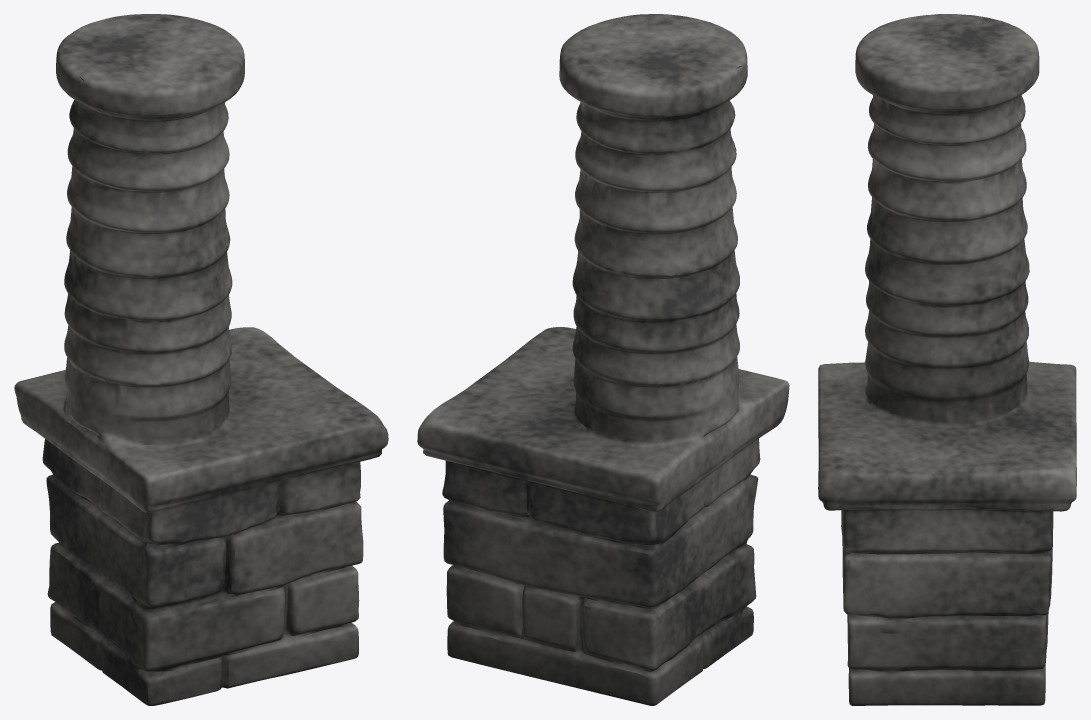
Rendered from old-granite-chimney-stack.glb.
3 renders of one model, left to right at view 1: azimuth 30°, elevation 25°; view 2: azimuth 150°, elevation 25°; view 3: azimuth 270°, elevation 25°, orthographic. The views are drawn at different scales.
Parts seen in each view (by area): view 1: old-granite-chimney-stack; view 2: old-granite-chimney-stack; view 3: old-granite-chimney-stack.
Boxes of the visible parts, x1=… form: old-granite-chimney-stack: x1=14, y1=14, x2=388, y2=705; old-granite-chimney-stack: x1=417, y1=14, x2=789, y2=705; old-granite-chimney-stack: x1=818, y1=14, x2=1076, y2=705.
Size of the model in its own units: 0.7196 by 1.66 by 0.665.
Materials: 1 (1 with a texture image).
